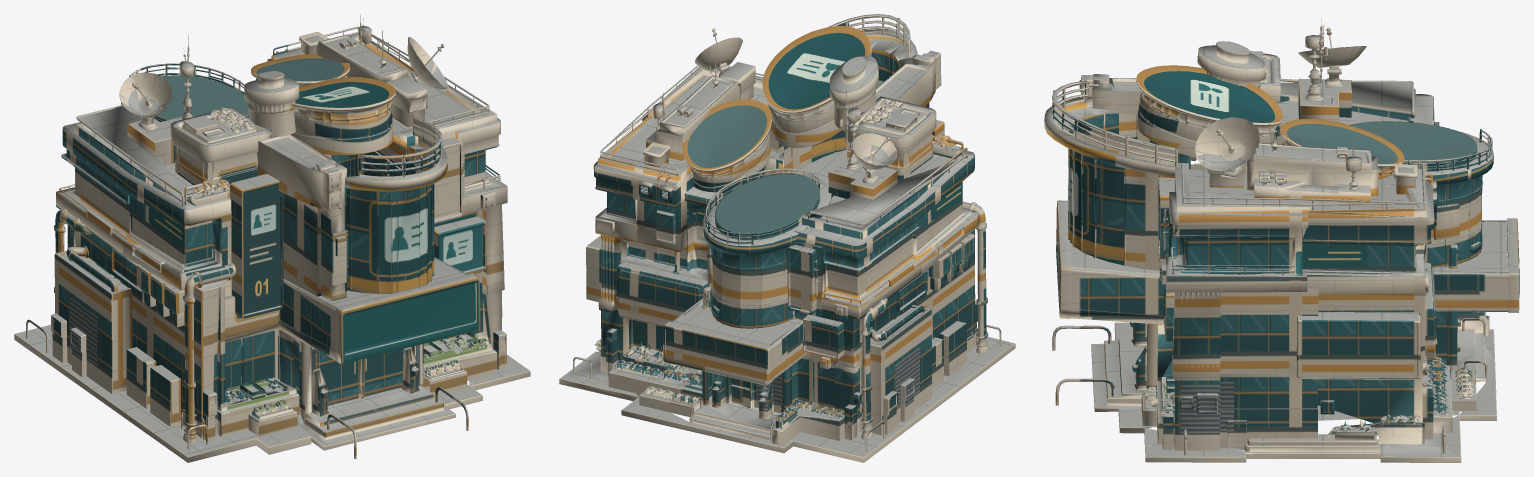
File: citizen-registry-detail.glb
3 views of the same model, side by side, from view 1: azimuth 30°, elevation 25°; view 2: azimuth 150°, elevation 25°; view 3: azimuth 270°, elevation 25° (orthographic). The views are drawn at different scales.
Parts seen in each view (by area): view 1: NEXCIV detail; view 2: NEXCIV detail; view 3: NEXCIV detail.
Part boxes in pixels (x1=…): NEXCIV detail: x1=14, y1=14, x2=530, y2=462; NEXCIV detail: x1=559, y1=14, x2=1015, y2=462; NEXCIV detail: x1=1044, y1=18, x2=1519, y2=462.
Bounding box in the file's own units: 13 × 12.07 × 15.76.
Materials: 4 (2 with a texture image).
